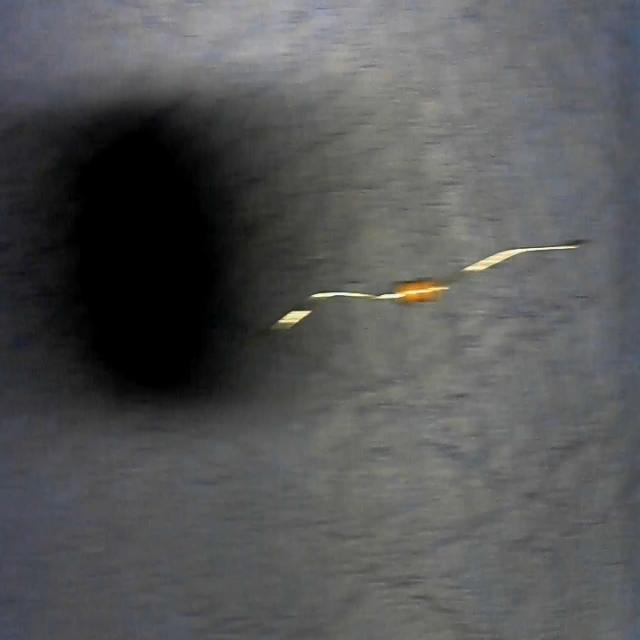resistor: (276, 245, 577, 313)
